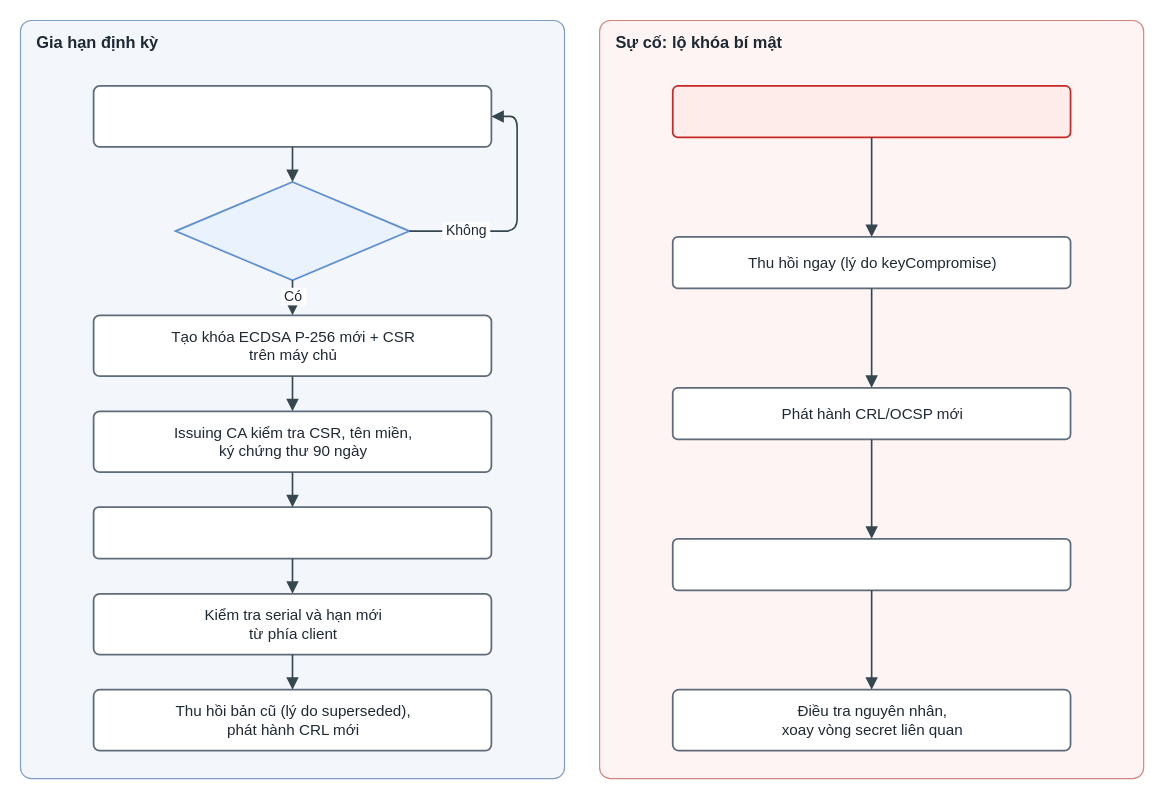
Image size: 1164x799. Some labels were removed from this diagram. The box of each missing label's shape, as (x1, y1, x2, y2) in pixels:
Còn dưới 30 ngày?: (174, 181, 410, 281)
Cấp chứng thư mới với khóa mới: (671, 537, 1071, 591)
Giám sát hằng ngày openssl x509 -checkend: (92, 85, 492, 147)
Phát hiện lộ khóa: (671, 85, 1071, 138)
Triển khai fullchain, reload Nginx: (92, 506, 492, 559)
